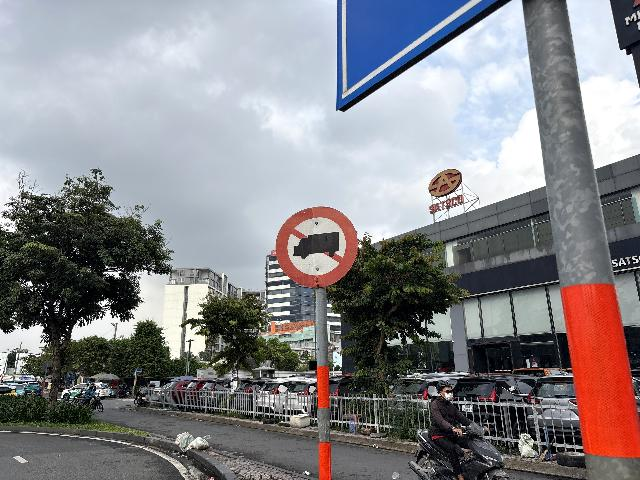cam-xe-tai: (276, 206, 357, 288)
